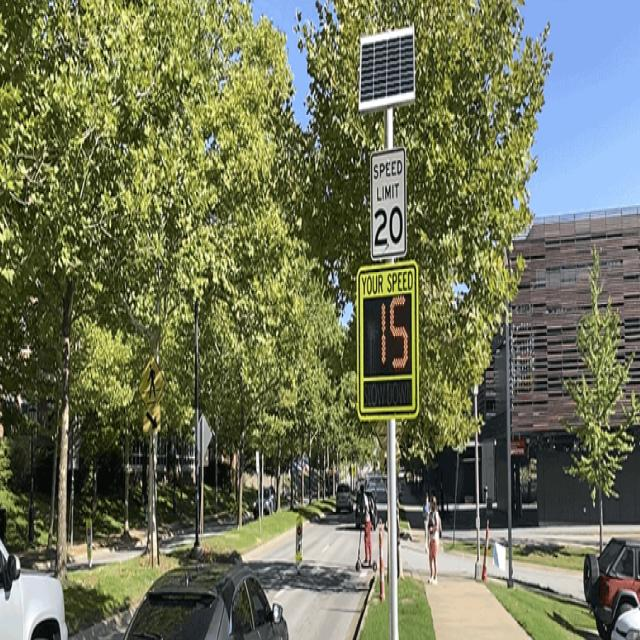speedLimit20: (371, 148, 406, 260)
